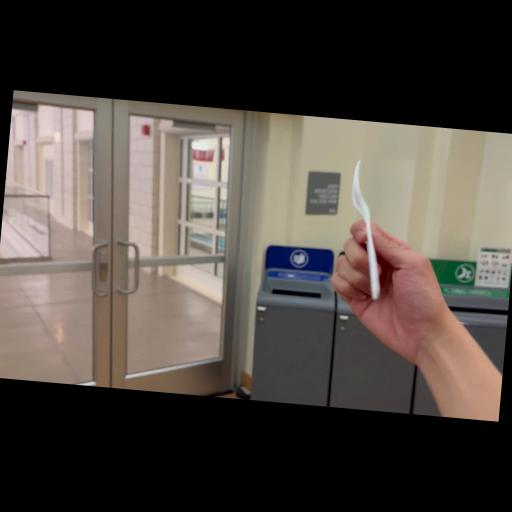utensil: (339, 155, 393, 302)
